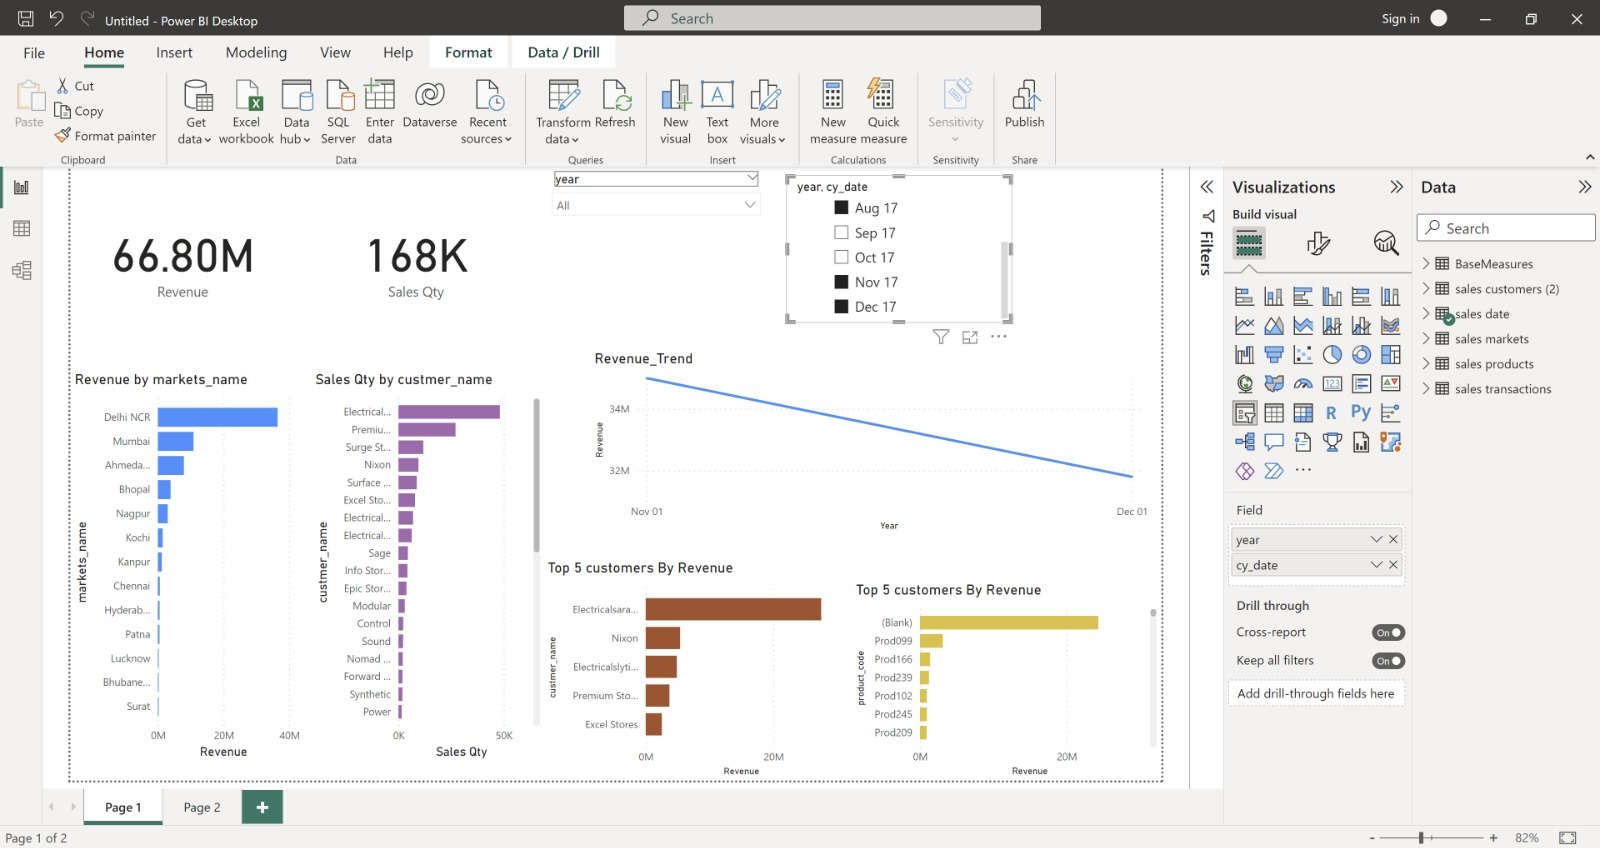

This screenshot's page, from the dashboard's own definition file:
{"tool":"powerbi","page":{"name":"Page 1","canvas":[1280,720],"ordinal":0},"visuals":[{"type":"card","fields":{"Values":["BaseMeasures.Revenue"]},"box":[0,0,263.5,215.4],"z":0},{"type":"card","fields":{"Values":["BaseMeasures.Sales Qty"]},"box":[273.5,0,263.5,215.4],"z":1000},{"type":"barChart","fields":{"Y":["BaseMeasures.Revenue"],"Category":["sales markets.markets_name","sales customers (2).custmer_name"]},"box":[0,239.8,273.7,459.3],"z":2000},{"type":"barChart","fields":{"Y":["BaseMeasures.Sales Qty"],"Category":["sales customers (2).custmer_name"]},"box":[281.8,239.8,273.7,459.3],"z":3000},{"type":"slicer","fields":{"Values":["sales date.year"]},"box":[546,0,265.5,173.4],"z":4000},{"type":"textbox","box":[828.5,0,265,270],"z":5000},{"type":"slicer","fields":{"Values":["sales date.year","sales date.cy_date"]},"box":[840,9.5,265.5,173.4],"z":6000},{"type":"slicer","fields":{"Values":["sales date.year"]},"box":[555,0,265.3,173.6],"z":7000},{"type":"barChart","title":"Top 5 customers By Revenue","fields":{"Y":["BaseMeasures.Revenue"],"Category":["sales customers (2).custmer_name"]},"box":[555,460.8,361.8,259.2],"z":8000},{"type":"barChart","title":"Top 5 customers By Revenue","fields":{"Y":["BaseMeasures.Revenue"],"Category":["sales products.product_code"]},"box":[916.8,486.5,363.1,233.5],"z":9000},{"type":"lineChart","title":"Revenue_Trend","fields":{"Category":["sales date.cy_date.Variation.Date Hierarchy.Year","sales date.cy_date.Variation.Date Hierarchy.Quarter","sales date.cy_date.Variation.Date Hierarchy.Month","sales date.cy_date.Variation.Date Hierarchy.Day"],"Y":["BaseMeasures.Revenue"]},"box":[609.7,215.4,659.8,216.8],"z":10000}]}

Visuals, with their boxes on the page's 1280x720 design canvas (x1, y1, x2, y2). These are canvas units, not pixel positions in the 1600x848 screenshot, which may show the page scaled, cropped or inside an application window:
card - BaseMeasures.Revenue: [0,0,264,215]
card - BaseMeasures.Sales Qty: [274,0,537,215]
barChart - BaseMeasures.Revenue x sales markets.markets_name: [0,240,274,699]
barChart - BaseMeasures.Sales Qty x sales customers (2).custmer_name: [282,240,556,699]
slicer - sales date.year: [546,0,812,173]
textbox: [828,0,1094,270]
slicer - sales date.year x sales date.cy_date: [840,10,1106,183]
slicer - sales date.year: [555,0,820,174]
"Top 5 customers By Revenue" barChart: [555,461,917,720]
"Top 5 customers By Revenue" barChart: [917,486,1280,720]
"Revenue_Trend" lineChart: [610,215,1270,432]
